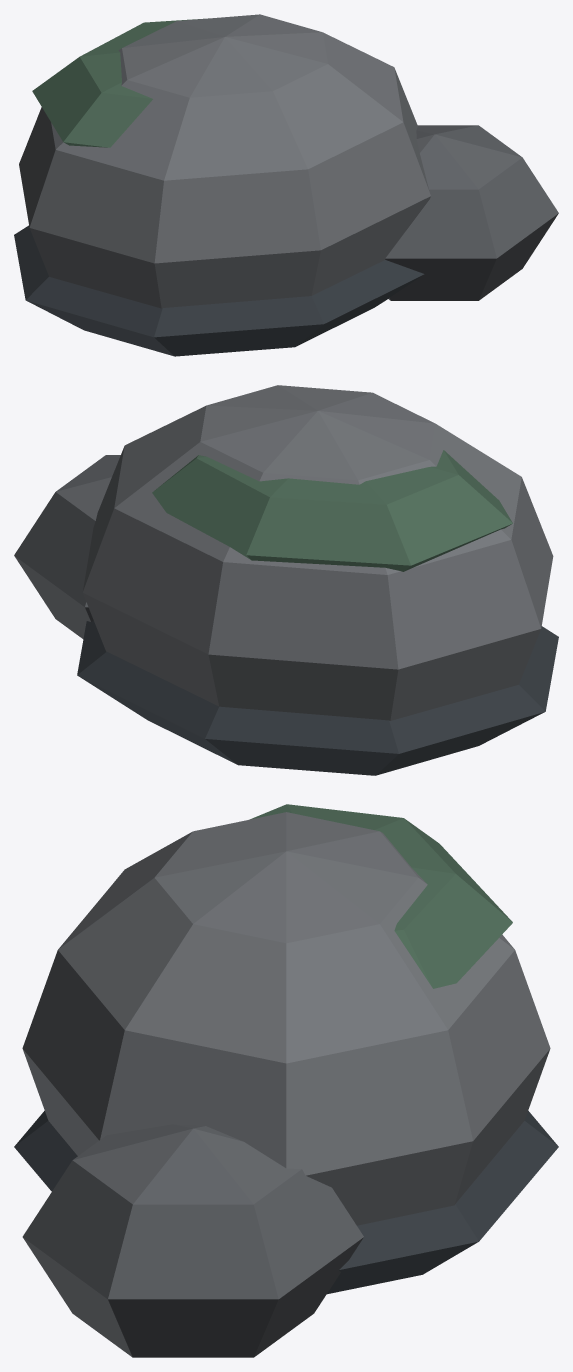
The model's file is br_x_mossy_boulder.glb.
3 renders of one model, top to bottom at view 1: azimuth 30°, elevation 25°; view 2: azimuth 150°, elevation 25°; view 3: azimuth 270°, elevation 25°, orthographic. The views are drawn at different scales.
Parts seen in each view (by area): view 1: br_x_mossy_boulder; view 2: br_x_mossy_boulder; view 3: br_x_mossy_boulder.
Boxes of the visible parts, x1,y1,x2,y2 form: br_x_mossy_boulder: [14, 14, 558, 356]; br_x_mossy_boulder: [14, 385, 558, 775]; br_x_mossy_boulder: [14, 804, 558, 1357].
Bounding box in the file's own units: 2.4 × 1.4 × 1.75.
